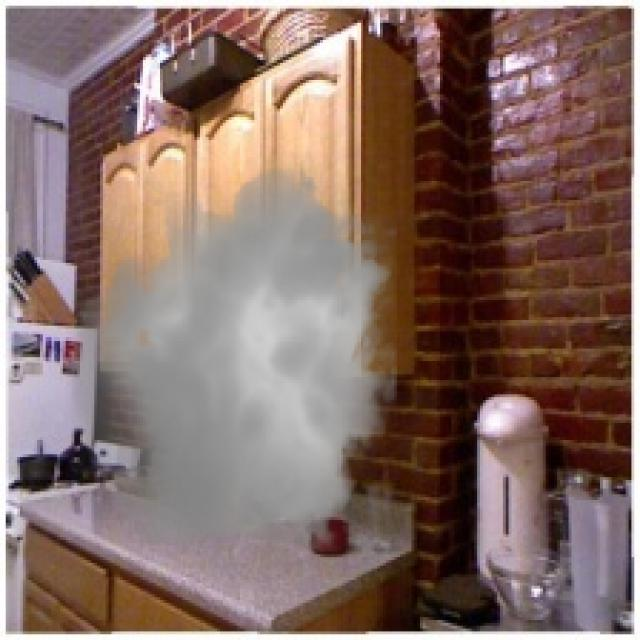smoke: (60, 152, 411, 568)
